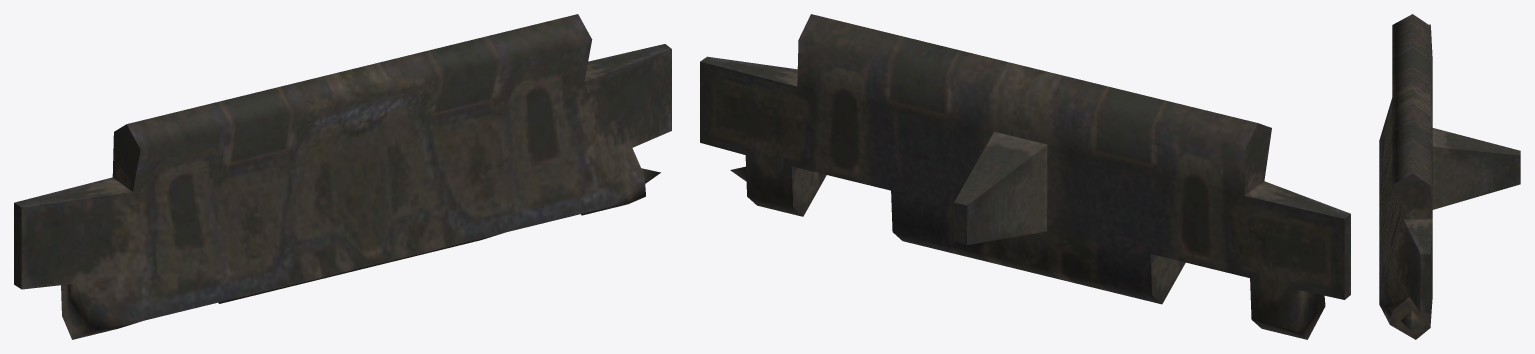
The picture shows the model from 3 angles, left to right: view 1: azimuth 30°, elevation 25°; view 2: azimuth 150°, elevation 25°; view 3: azimuth 270°, elevation 25°; orthographic projection. The views are drawn at different scales.
Visible parts, largest first — view 1: set_0_group_0; view 2: set_0_group_0; view 3: set_0_group_0.
Part boxes in pixels (x1,y1,x2,y2): set_0_group_0: (14, 14, 671, 339); set_0_group_0: (700, 14, 1350, 339); set_0_group_0: (1379, 14, 1520, 339).
Bounding box in the file's own units: 0.7156 × 0.2149 × 0.1862.
Materials: 1 (1 with a texture image).
